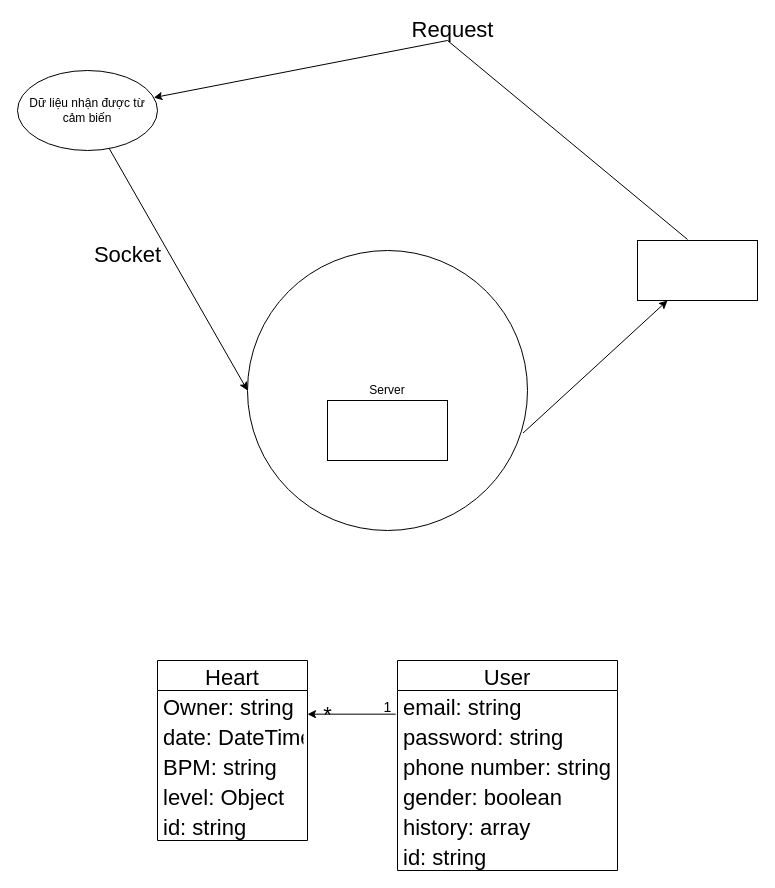
Image size: 775x888. Some labels were removed from this diagram. Each missing label, with the centre of its shape:
"Thuật toán (python)" belongs at (x=387, y=430).
"Trả dữ liệu cho app" belongs at (x=697, y=270).
